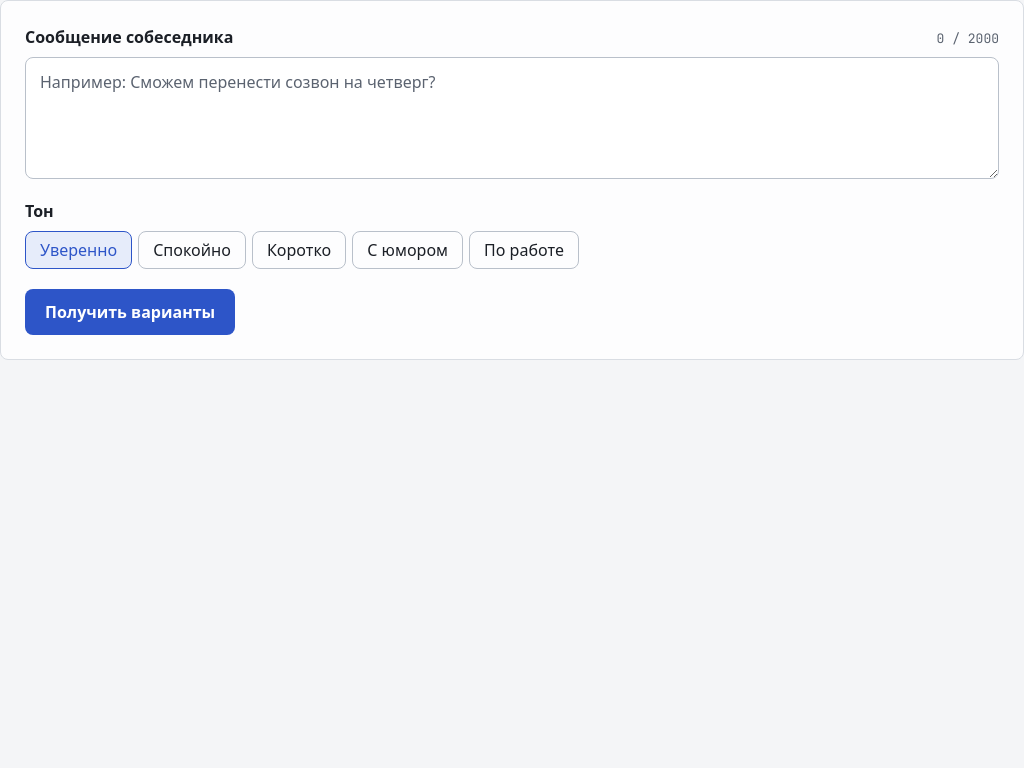
Scenario: ReplyTool › опоздавший ответ отменённого запроса игнорируется
Type "Первое сообщение" into the text box at (512, 118), box [25, 57, 999, 179]
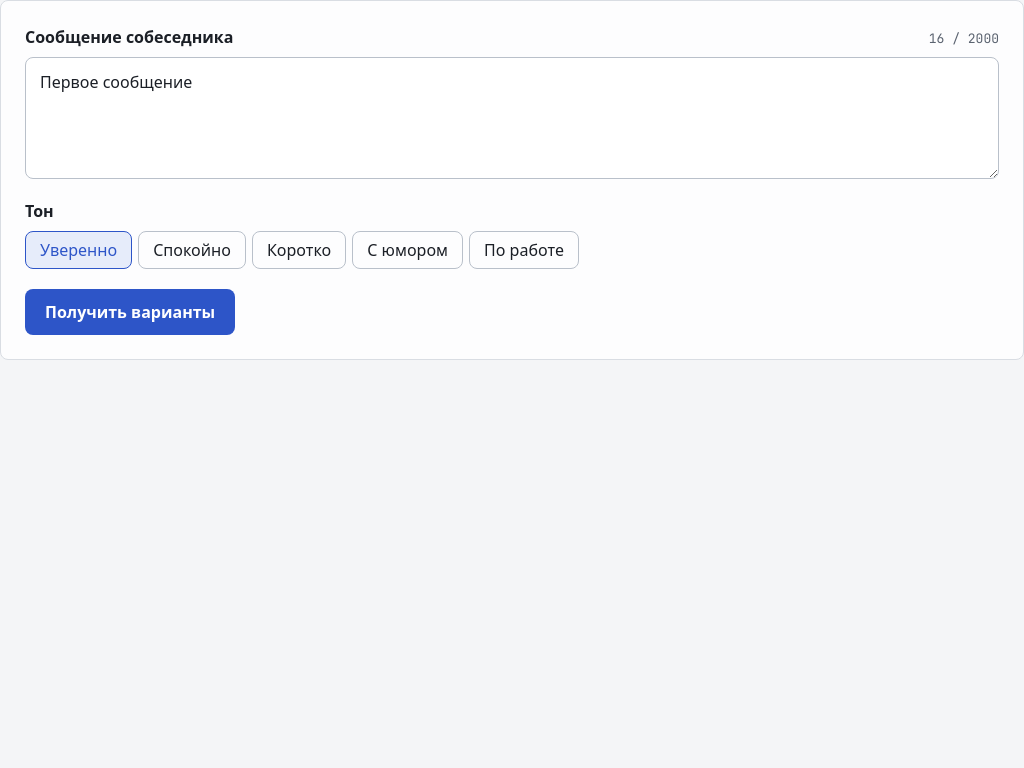
Click the button "Получить варианты" at (130, 312), box [25, 289, 235, 335]
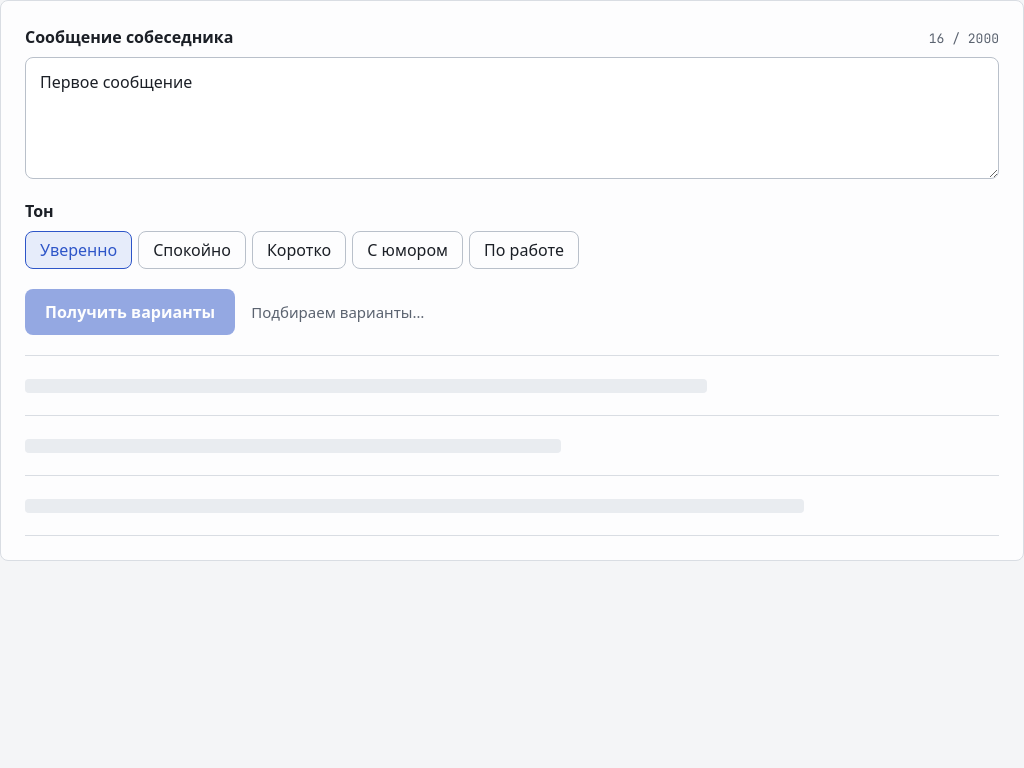
Replace the text in the text box with "Второе сообщение" at (512, 118), box [25, 57, 999, 179]
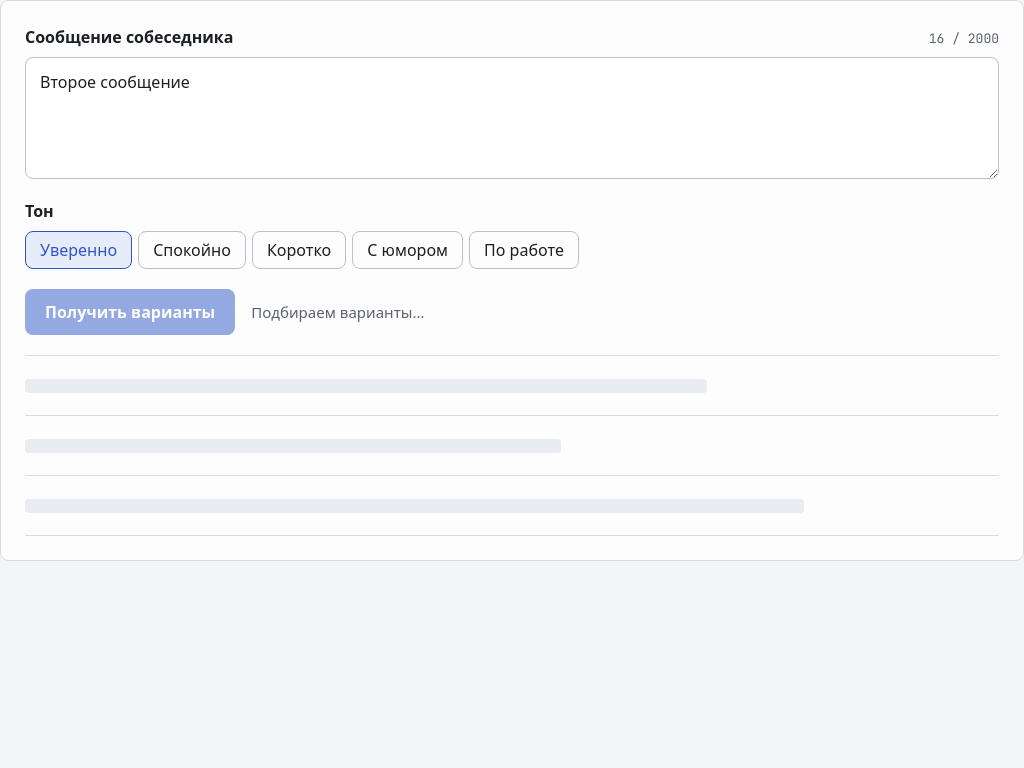
Submit the form
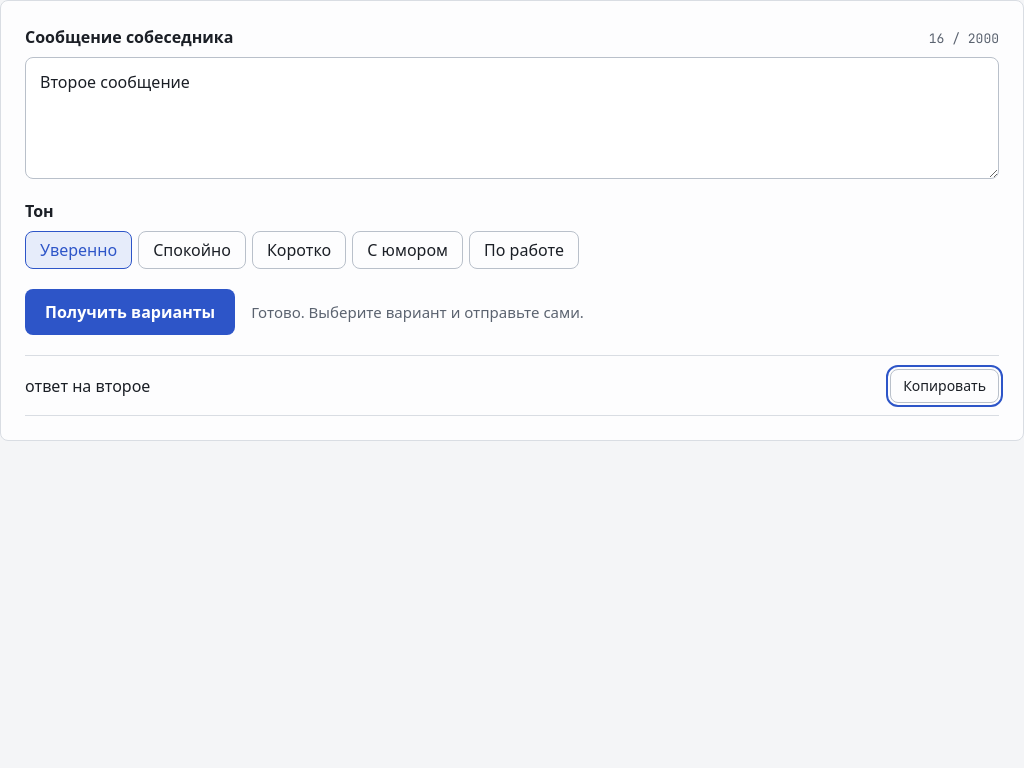
Expected: the list item shows "ответ на второе", [25, 374, 150, 396]
